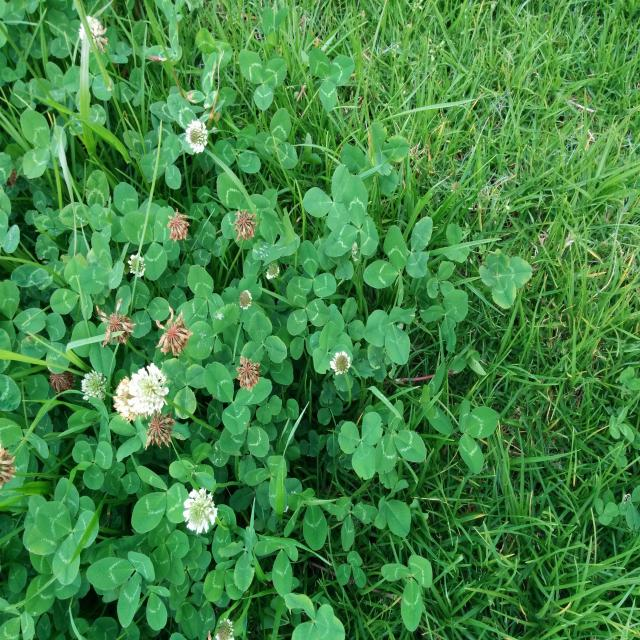Four Leaf Clover: (479, 254, 533, 309)
